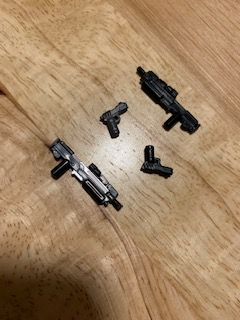pistol: (137, 143, 174, 180), (98, 100, 130, 140)
rifle: (46, 138, 123, 212), (133, 65, 203, 137)
